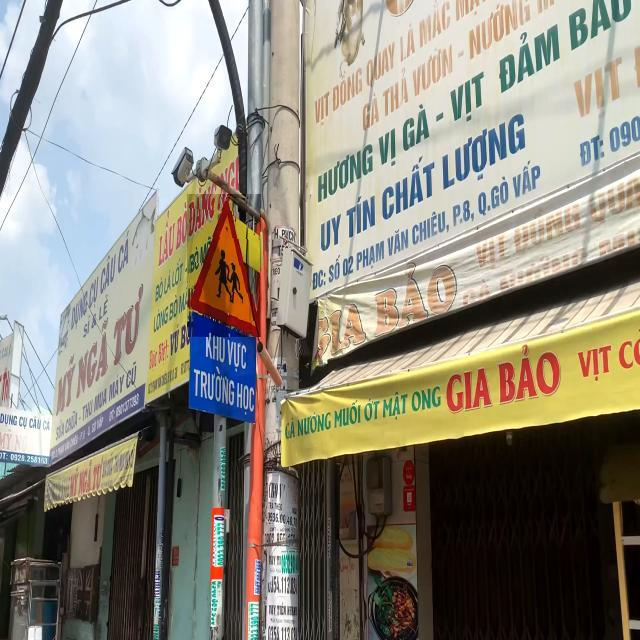W-225: (188, 194, 262, 337)
